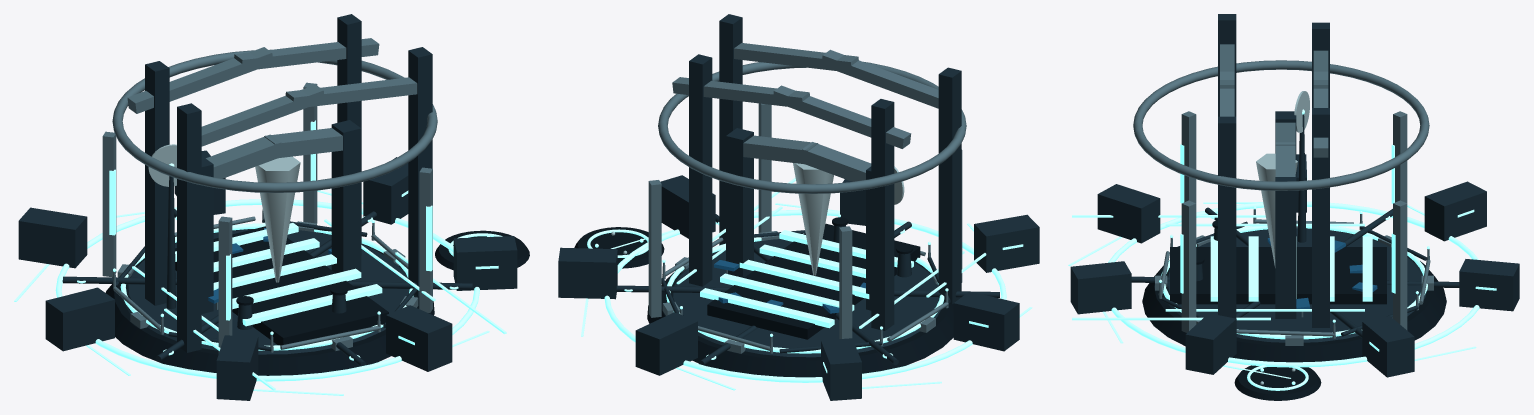
The model's file is shipyard-stage4.glb.
3 views of the same model, side by side, from view 1: azimuth 30°, elevation 25°; view 2: azimuth 150°, elevation 25°; view 3: azimuth 270°, elevation 25° (orthographic). The views are drawn at different scales.
Visible parts, largest first — view 1: construction-trench, gantry-pillar (×2), armored-foundation, capital-dock-pillar-2, capital-dock-crown, dock-light (×5), upper-deck, capital-dock-pillar-0, capital-dock-pillar-3, industrial-annex-3, industrial-annex-2, industrial-annex-0 (+24 smaller); view 2: upper-deck, construction-trench, armored-foundation, dock-light (×5), capital-dock-pillar-2, capital-dock-pillar-1, capital-dock-pillar-0, capital-dock-crown, gantry-pillar (×2), industrial-annex-2, industrial-annex-1, industrial-annex-4 (+19 smaller); view 3: construction-trench, capital-dock-crown, armored-foundation, upper-deck, capital-dock-pillar-3, capital-dock-pillar-1, district-grid-3, industrial-annex-1, industrial-annex-3, industrial-annex-0, gantry-pillar, industrial-annex-4 (+23 smaller).
Boxes of the visible parts, <box> form: construction-trench: <box>175,226,388,345</box>; gantry-pillar (×2): <box>201,120,361,313</box>; armored-foundation: <box>105,229,434,375</box>; capital-dock-pillar-2: <box>177,103,201,352</box>; capital-dock-crown: <box>112,49,437,192</box>; dock-light (×5): <box>175,223,382,326</box>; upper-deck: <box>122,229,413,354</box>; capital-dock-pillar-0: <box>145,61,169,305</box>; capital-dock-pillar-3: <box>408,47,432,296</box>; industrial-annex-3: <box>18,207,87,268</box>; industrial-annex-2: <box>45,287,114,351</box>; industrial-annex-0: <box>386,305,452,371</box>; upper-deck: <box>667,239,943,357</box>; construction-trench: <box>707,223,920,339</box>; armored-foundation: <box>647,241,953,377</box>; dock-light (×5): <box>700,230,913,328</box>; capital-dock-pillar-2: <box>938,67,961,304</box>; capital-dock-pillar-1: <box>689,54,712,286</box>; capital-dock-pillar-0: <box>871,99,894,330</box>; capital-dock-crown: <box>658,61,966,193</box>; gantry-pillar (×2): <box>726,128,871,310</box>; industrial-annex-2: <box>953,291,1019,351</box>; industrial-annex-1: <box>974,214,1039,272</box>; industrial-annex-4: <box>635,312,697,375</box>; construction-trench: <box>1170,247,1386,304</box>; capital-dock-crown: <box>1133,60,1429,190</box>; armored-foundation: <box>1142,228,1446,362</box>; upper-deck: <box>1163,228,1426,342</box>; capital-dock-pillar-3: <box>1218,116,1236,318</box>; capital-dock-pillar-1: <box>1312,108,1329,327</box>; district-grid-3: <box>1108,201,1479,367</box>; industrial-annex-1: <box>1097,184,1160,243</box>; industrial-annex-3: <box>1424,181,1486,241</box>; industrial-annex-0: <box>1070,261,1131,314</box>; gantry-pillar: <box>1275,177,1296,318</box>; industrial-annex-4: <box>1459,259,1519,311</box>.
Size of the model in its own units: 18.6 by 9.83 by 17.26.
